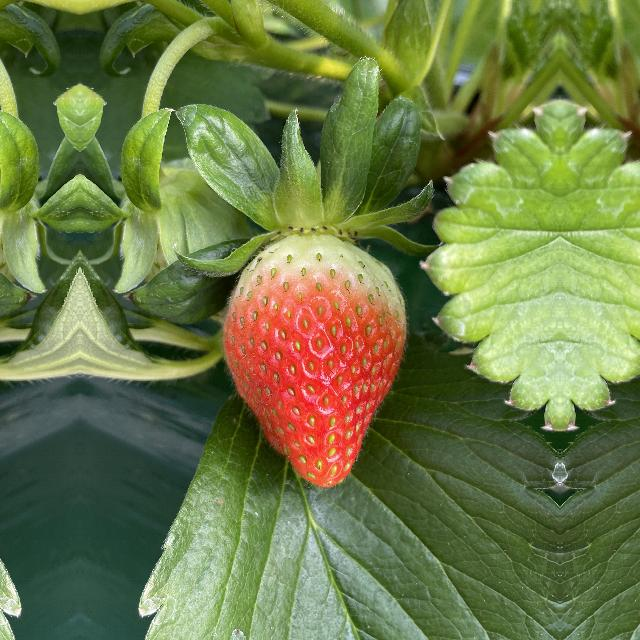Health_100: (217, 226, 417, 508)
